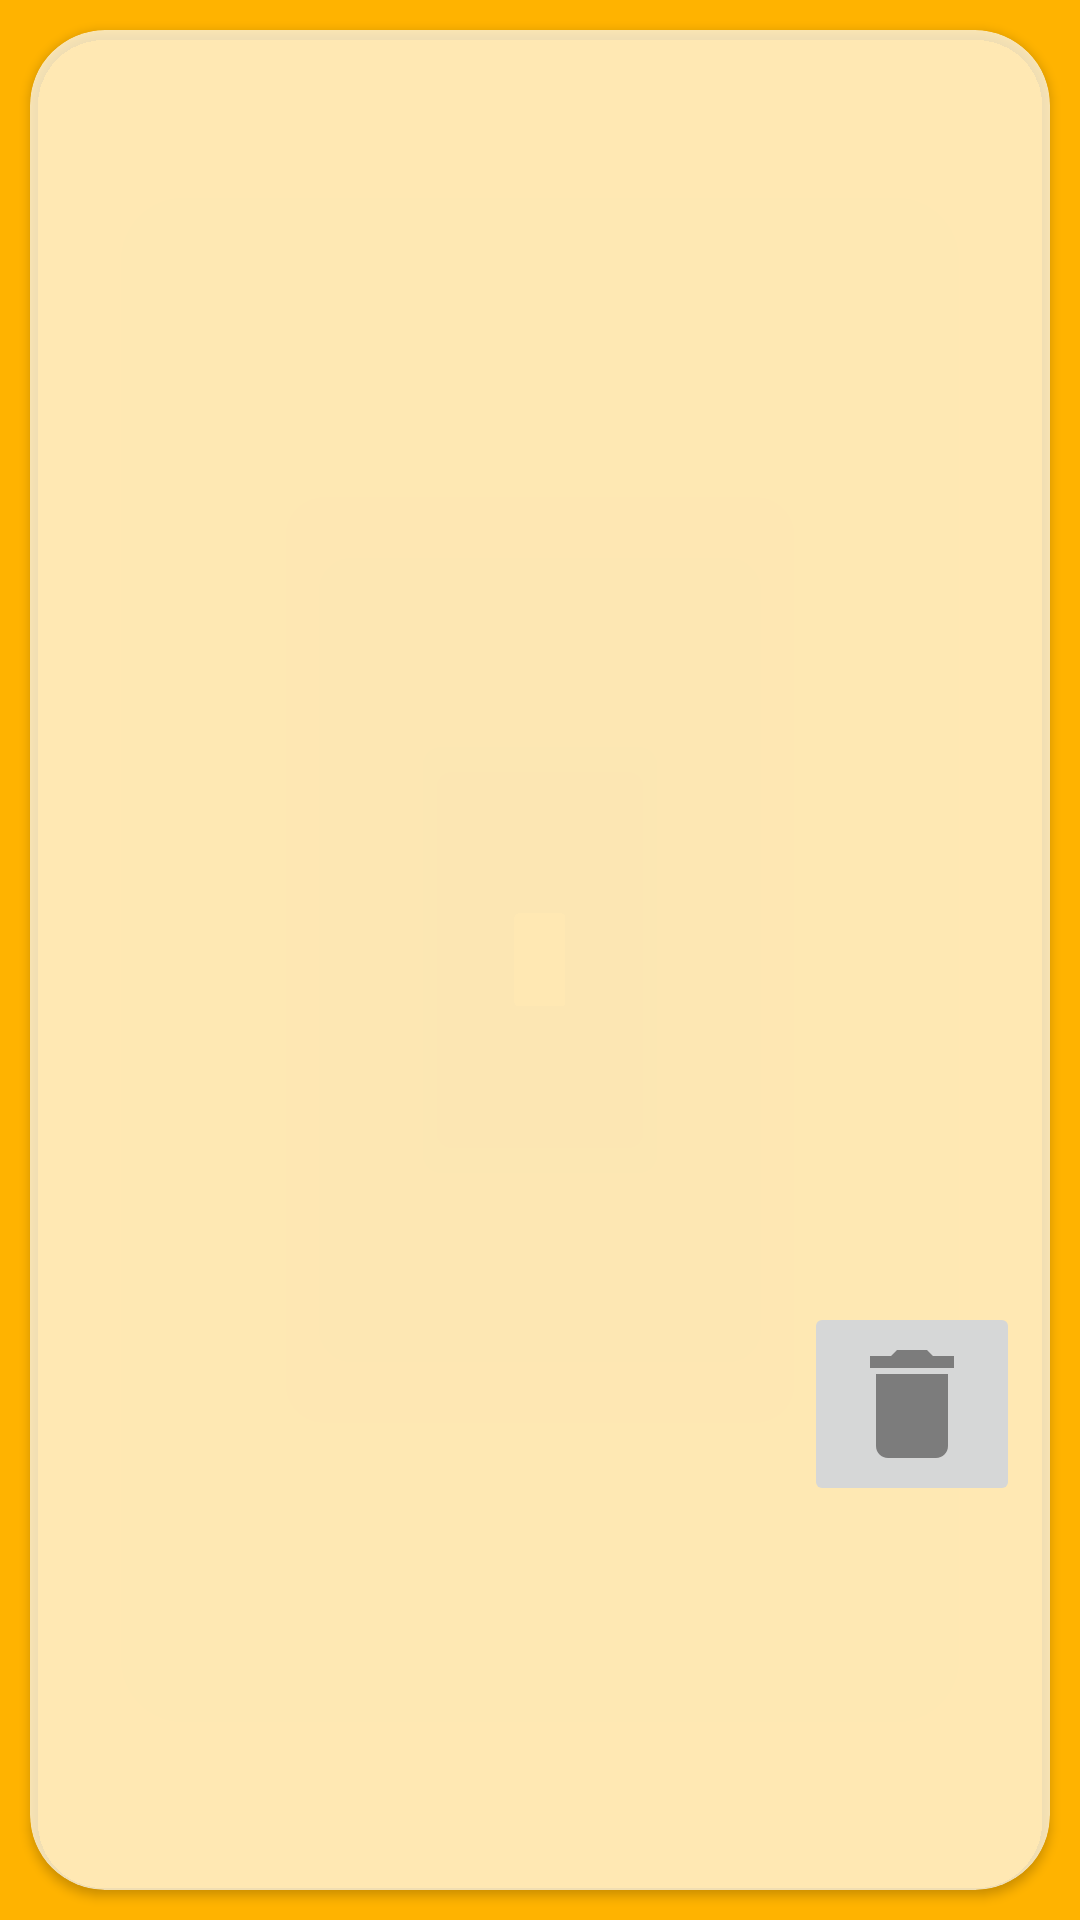

Named icons in this screenshot (1080*1920) and their centers, (x=x, y=y):
delete: (x=912, y=1404)
